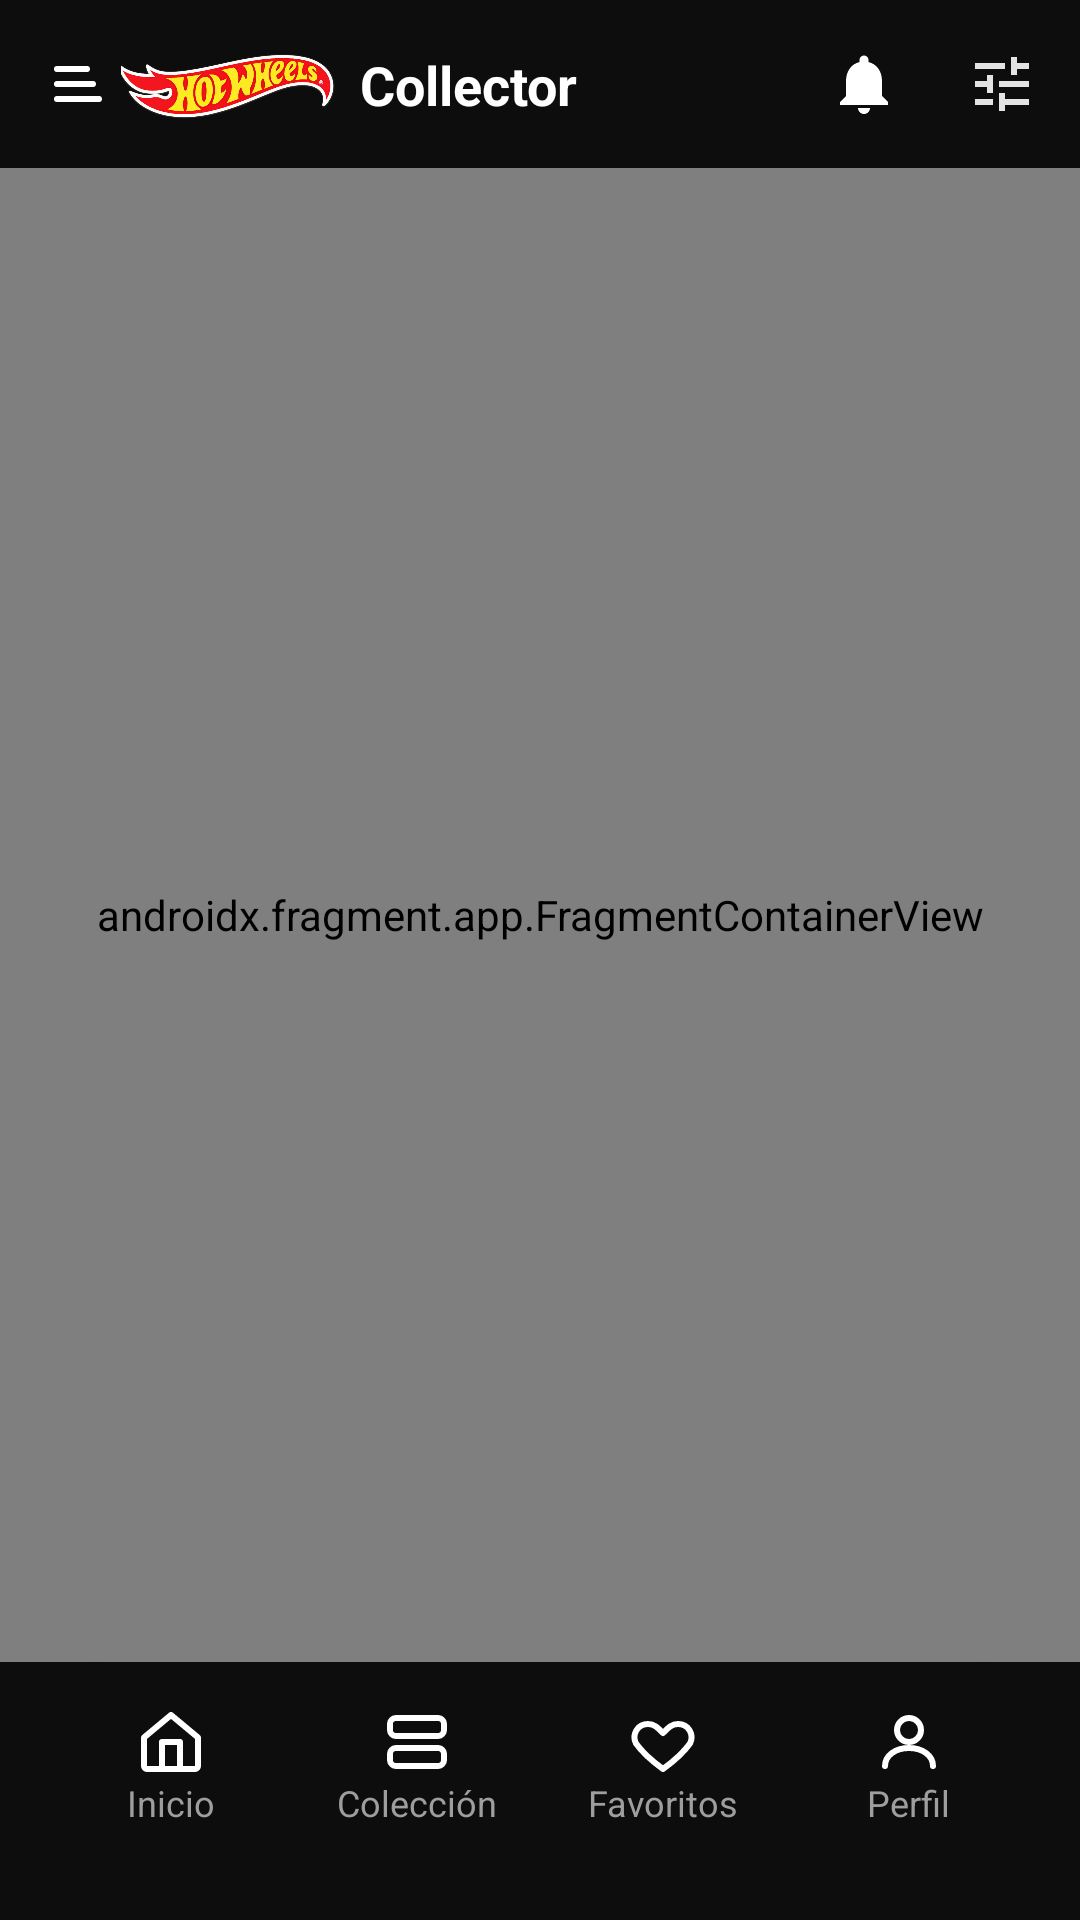

Locate icon controls on the screen. Image size 1080x1920, boxes as (x1, y1, x2, y2).
menu: (54, 66, 102, 102)
notifications: (840, 55, 888, 114)
Personalizar colección: (975, 57, 1029, 111)
